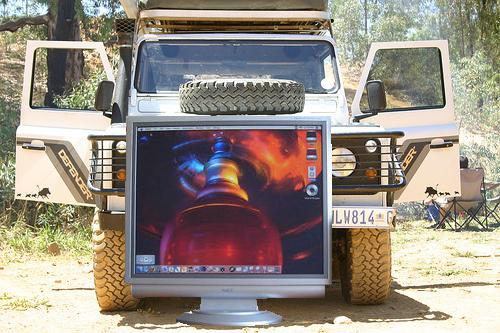tampered: (125, 117, 332, 326)
